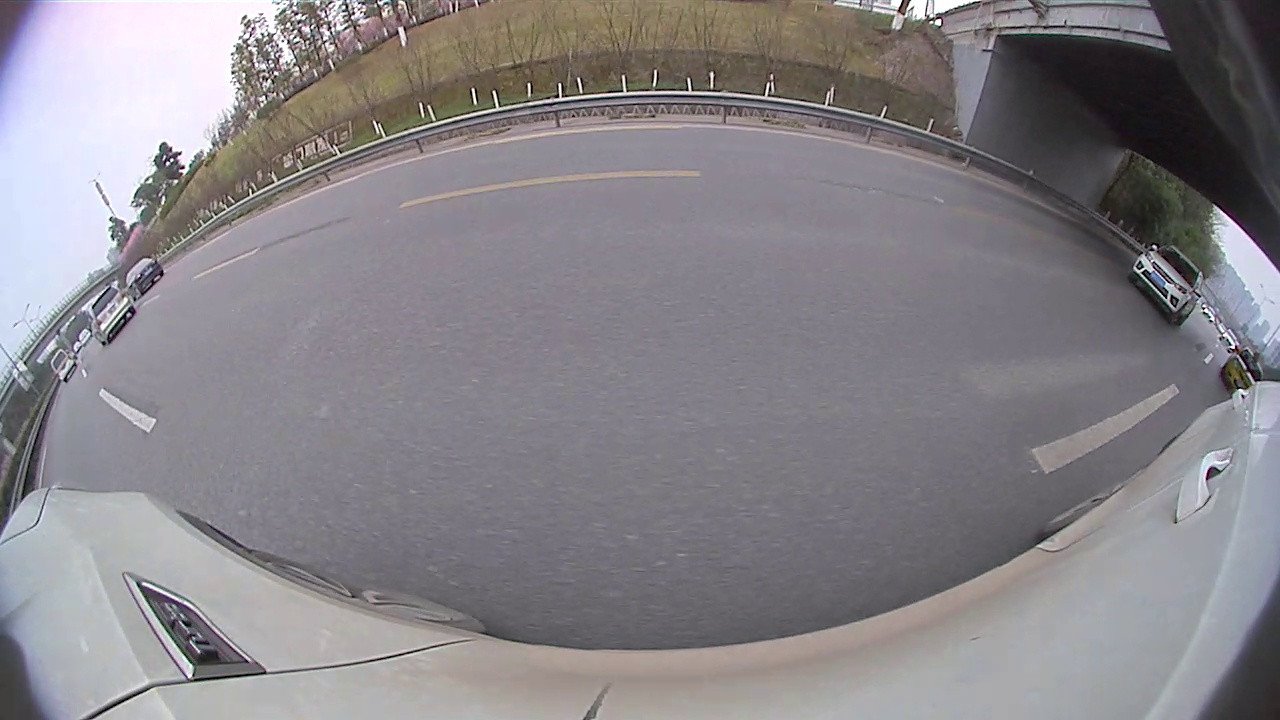car: (1127, 242, 1203, 328), (85, 284, 136, 348), (1219, 348, 1265, 391), (122, 255, 165, 297), (50, 347, 78, 385)
